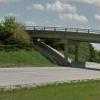Bridge: (14, 16, 99, 47)
